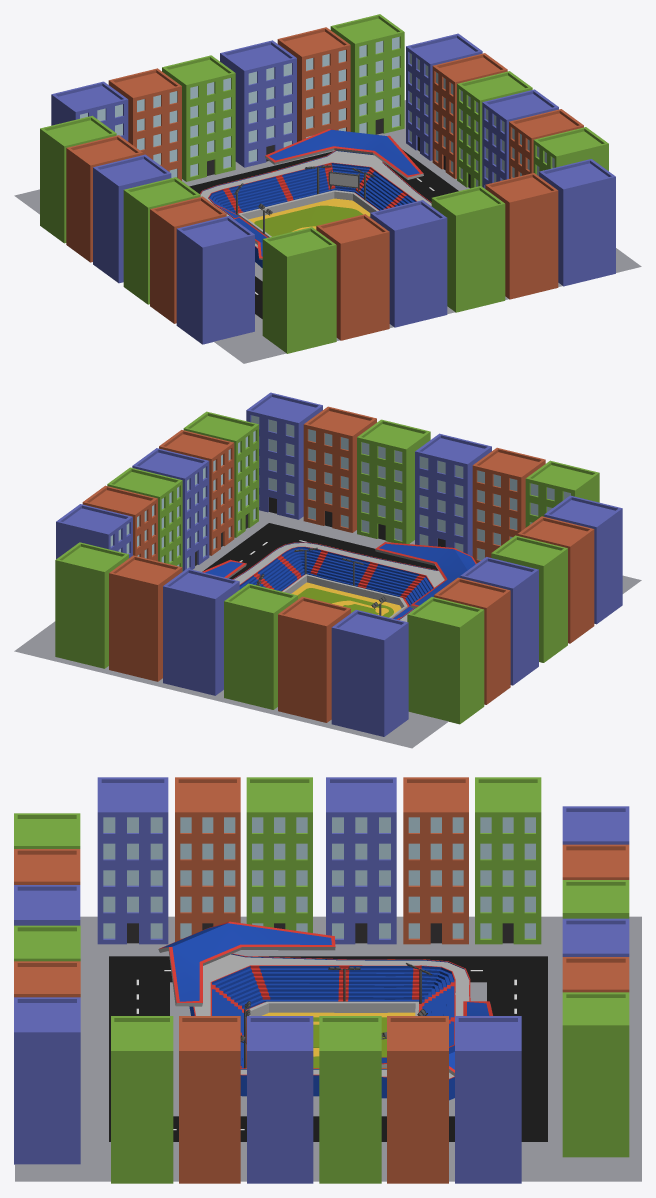
The model's file is Baseball Cort.fbx.
3 views of the same model, one above another, from view 1: azimuth 30°, elevation 25°; view 2: azimuth 150°, elevation 25°; view 3: azimuth 270°, elevation 25° (orthographic). The views are drawn at different scales.
Parts seen in each view (by area): view 1: Cube.007, Tribune.001, Plane, PlayGround, Tribune.002; view 2: Cube.007, Tribune.001, Plane, PlayGround, Tribune.002; view 3: Cube.007, Plane, Tribune.001, Tribune.002, PlayGround.
Boxes of the visible parts, box(x1,y1,x2,y2) form: Cube.007: box(40, 14, 615, 353); Tribune.001: box(200, 129, 431, 267); Plane: box(14, 100, 641, 363); PlayGround: box(248, 198, 370, 236); Tribune.002: box(237, 190, 378, 237); Cube.007: box(55, 392, 622, 736); Tribune.001: box(202, 542, 476, 621); Plane: box(14, 510, 641, 748); PlayGround: box(291, 582, 401, 617); Tribune.002: box(282, 574, 407, 618); Cube.007: box(14, 777, 629, 1183); Plane: box(15, 916, 641, 1181); Tribune.001: box(158, 921, 492, 1100); Tribune.002: box(247, 1001, 418, 1015); PlayGround: box(262, 1012, 415, 1068).
Bounding box in the file's own units: 15594 × 3608 × 15120.
